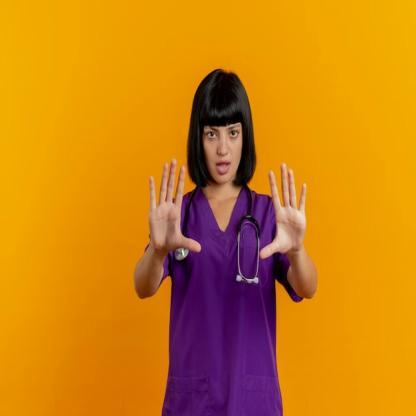stop: (146, 154, 204, 260), (257, 160, 310, 259)
